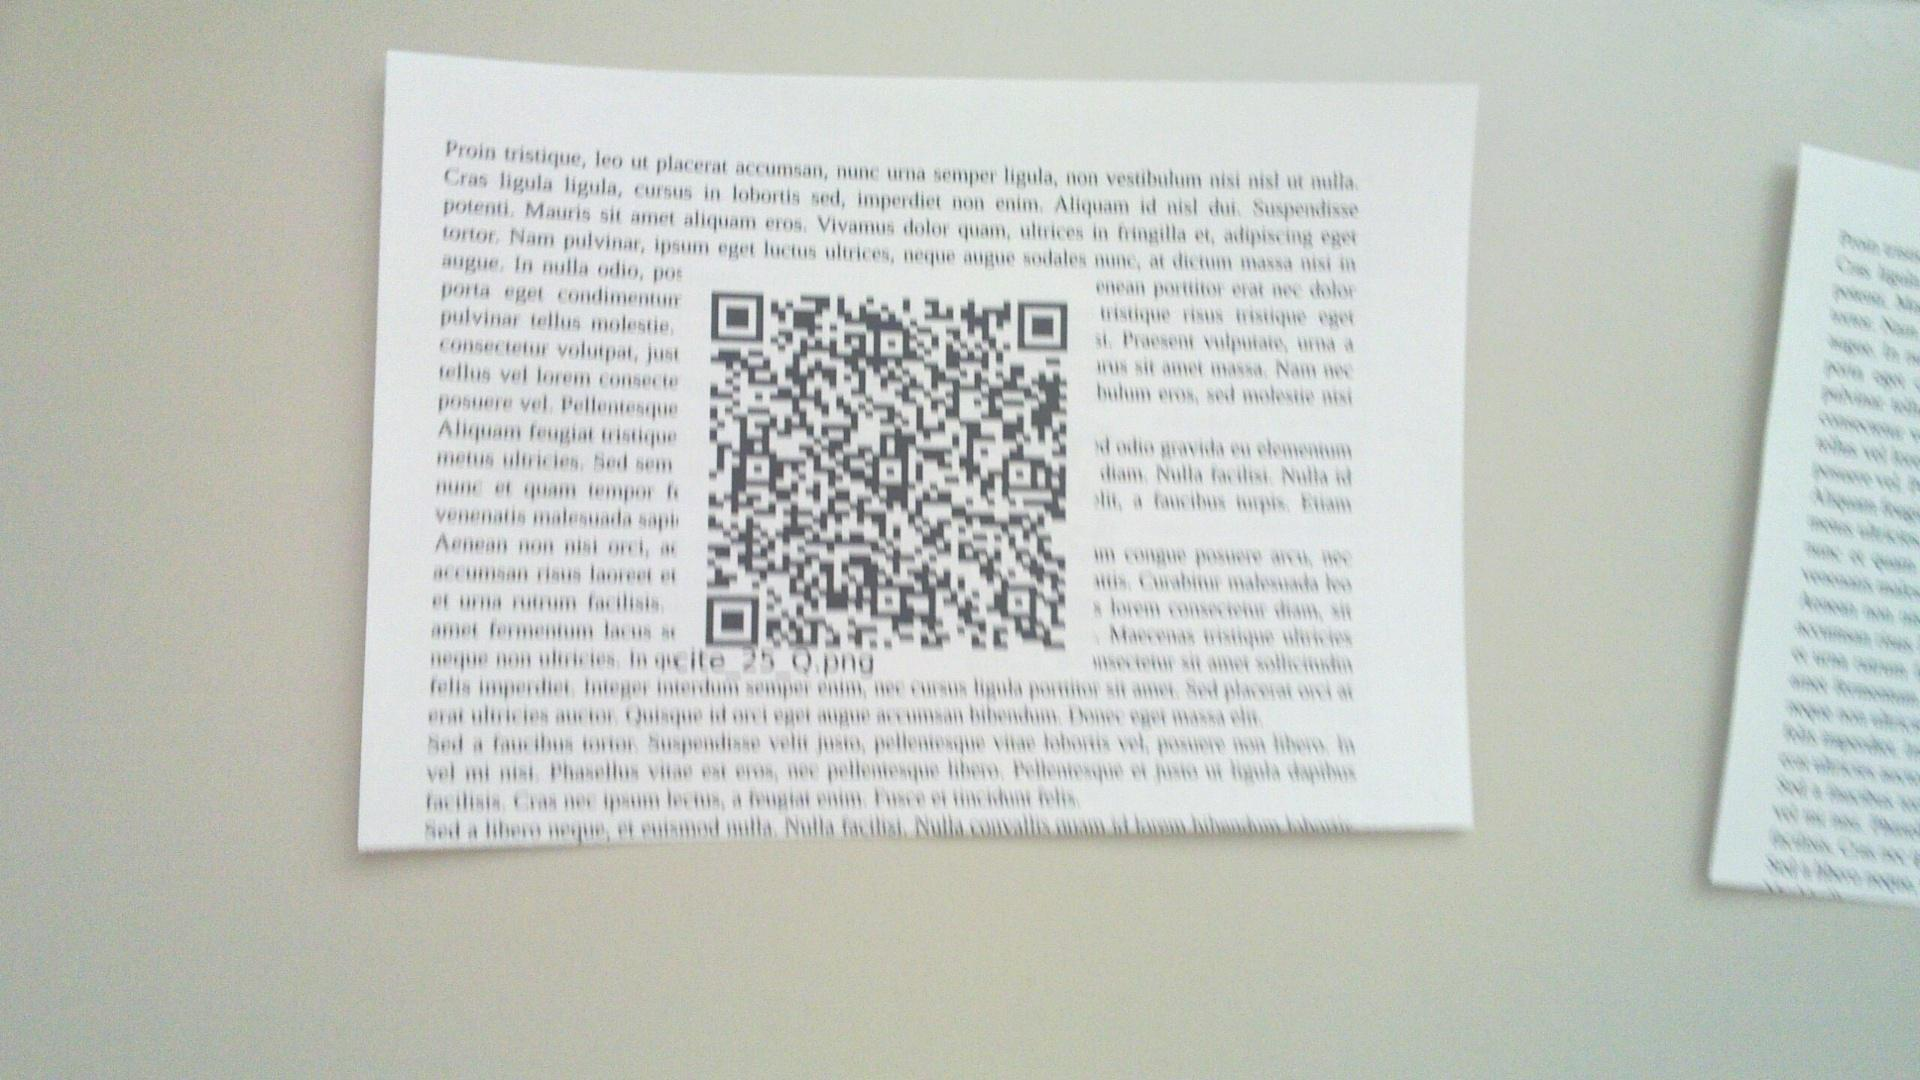Finder pattern: (707, 286, 767, 345), (704, 591, 764, 649), (1015, 298, 1069, 353)
